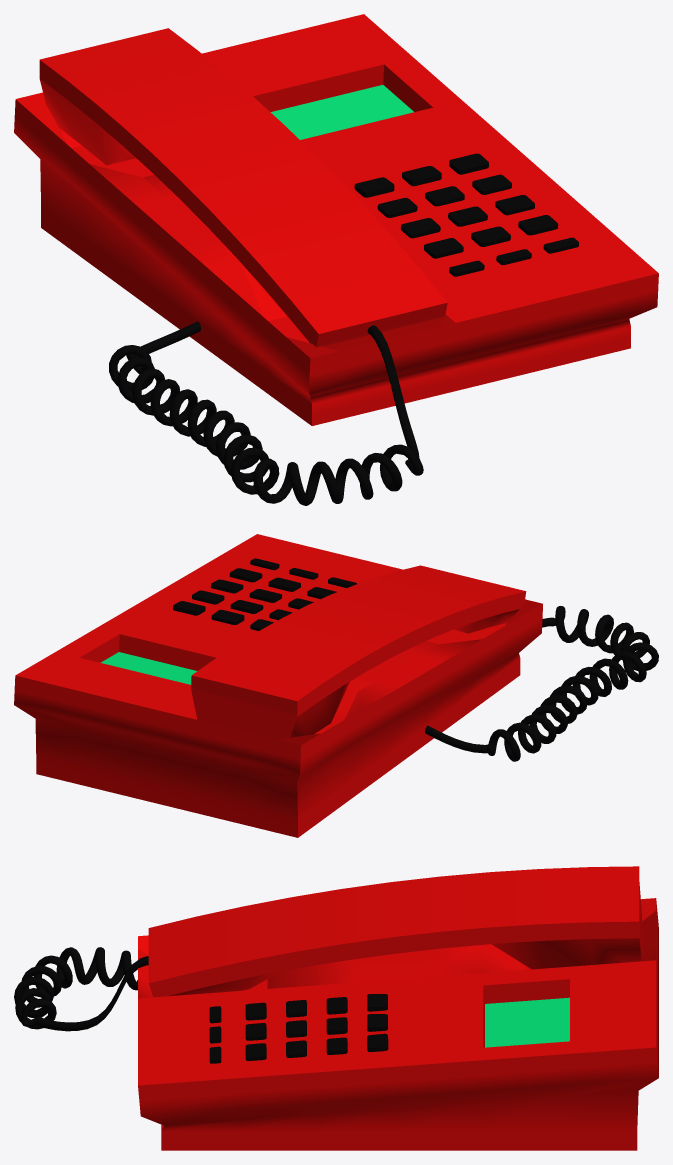
Rendered from phoneFBX.fbx.
3 views of the same model, one above another, from view 1: azimuth 30°, elevation 25°; view 2: azimuth 150°, elevation 25°; view 3: azimuth 270°, elevation 25° (orthographic). The views are drawn at different scales.
Parts seen in each view (by area): view 1: pCube1, pCube17, nurbsToPoly1; view 2: pCube1, pCube17, nurbsToPoly1; view 3: pCube1, pCube17, nurbsToPoly1.
Boxes of the visible parts, x1=… form: pCube1: x1=14, y1=14, x2=658, y2=425; pCube17: x1=39, y1=28, x2=447, y2=351; nurbsToPoly1: x1=109, y1=321, x2=423, y2=505; pCube1: x1=14, y1=534, x2=542, y2=837; pCube17: x1=191, y1=565, x2=526, y2=739; nurbsToPoly1: x1=425, y1=606, x2=658, y2=761; pCube1: x1=138, y1=898, x2=658, y2=1150; pCube17: x1=148, y1=866, x2=642, y2=997; nurbsToPoly1: x1=14, y1=947, x2=148, y2=1031.
Size of the model in its own units: 7.5 by 2.88 by 10.58.
